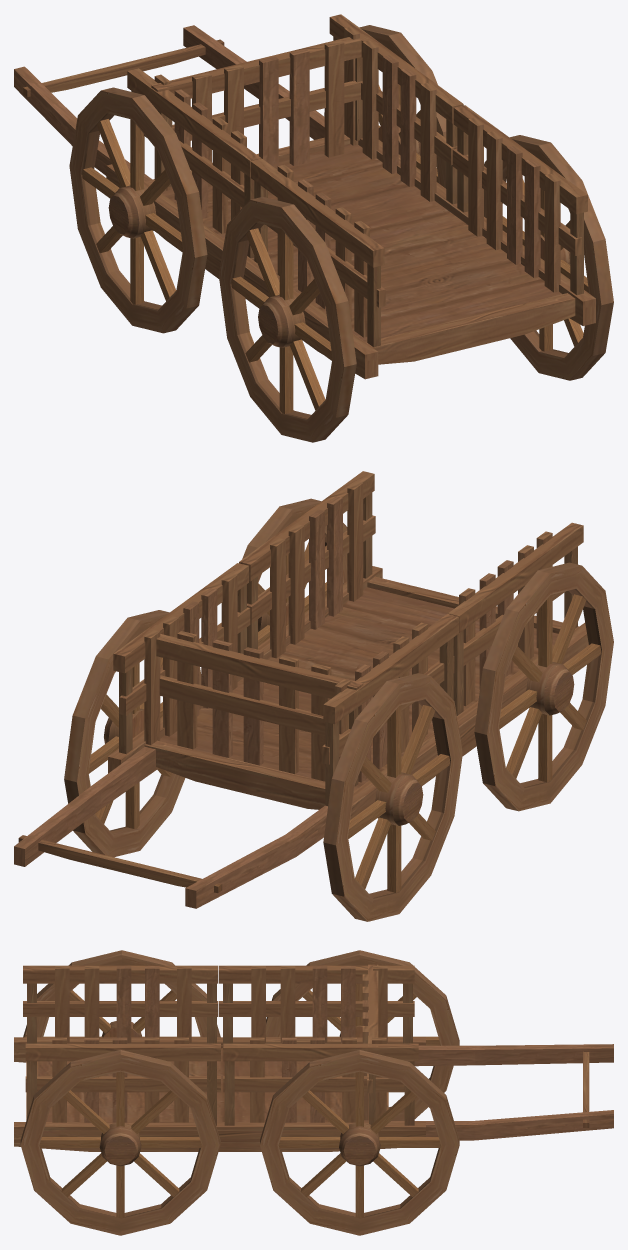
File: MV_Wagon_A.fbx
3 views of the same model, one above another, from view 1: azimuth 30°, elevation 25°; view 2: azimuth 150°, elevation 25°; view 3: azimuth 270°, elevation 25° (orthographic). The views are drawn at different scales.
Visible parts, largest first — view 1: MV_Wagon_A; view 2: MV_Wagon_A; view 3: MV_Wagon_A.
Boxes of the visible parts, x1=… form: MV_Wagon_A: x1=14, y1=14, x2=613, y2=442; MV_Wagon_A: x1=14, y1=471, x2=613, y2=921; MV_Wagon_A: x1=14, y1=950, x2=613, y2=1235.
Bounding box in the file's own units: 263 × 194 × 580.
Materials: 1 (1 with a texture image).
